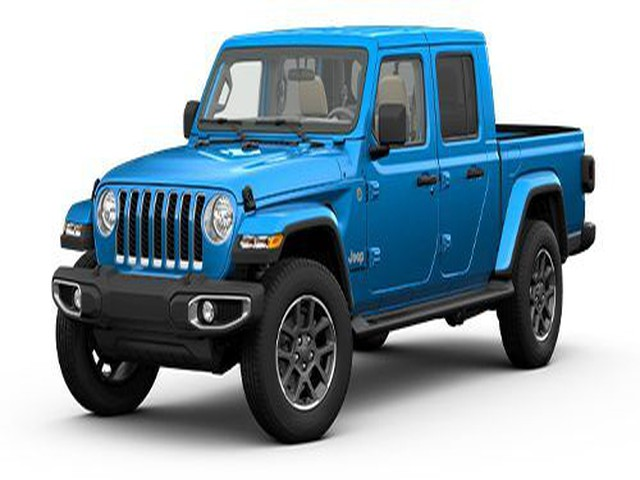Vehicle: (50, 19, 599, 445)
